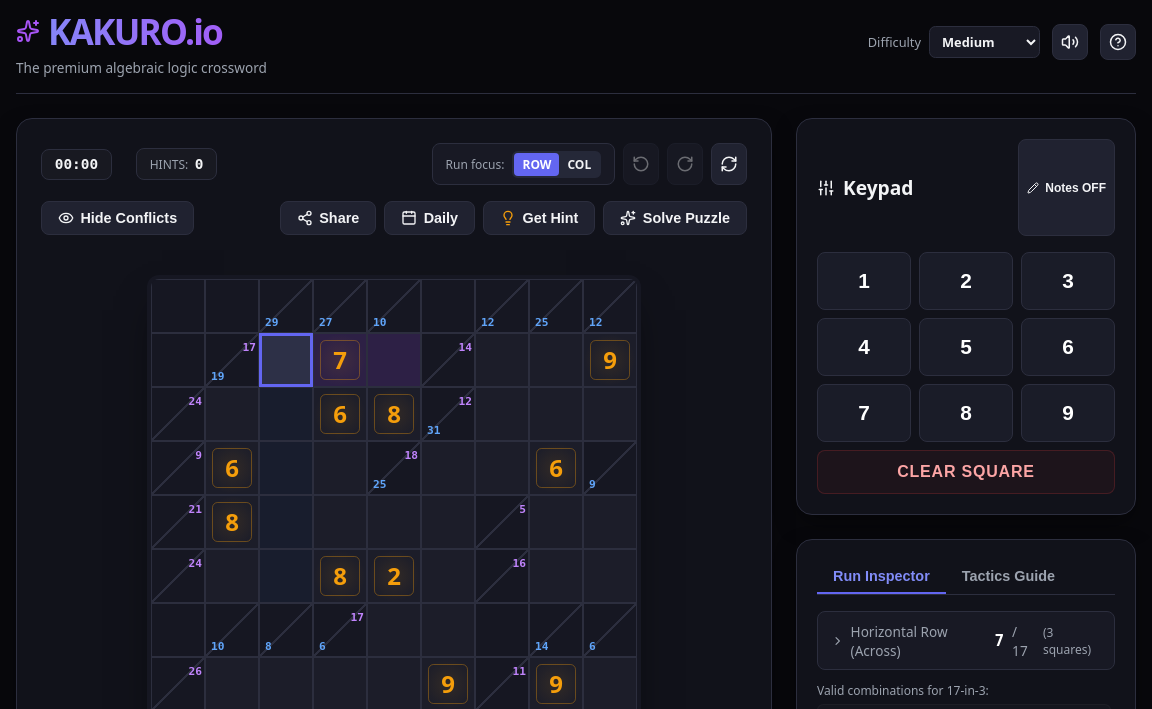
Test: App integration › lists computed unique partitions in the tactics guide
Click the tab "Tactics Guide".
click(1008, 577)  # box x1=946 y1=560 x2=1071 y2=594
(page scrolled)
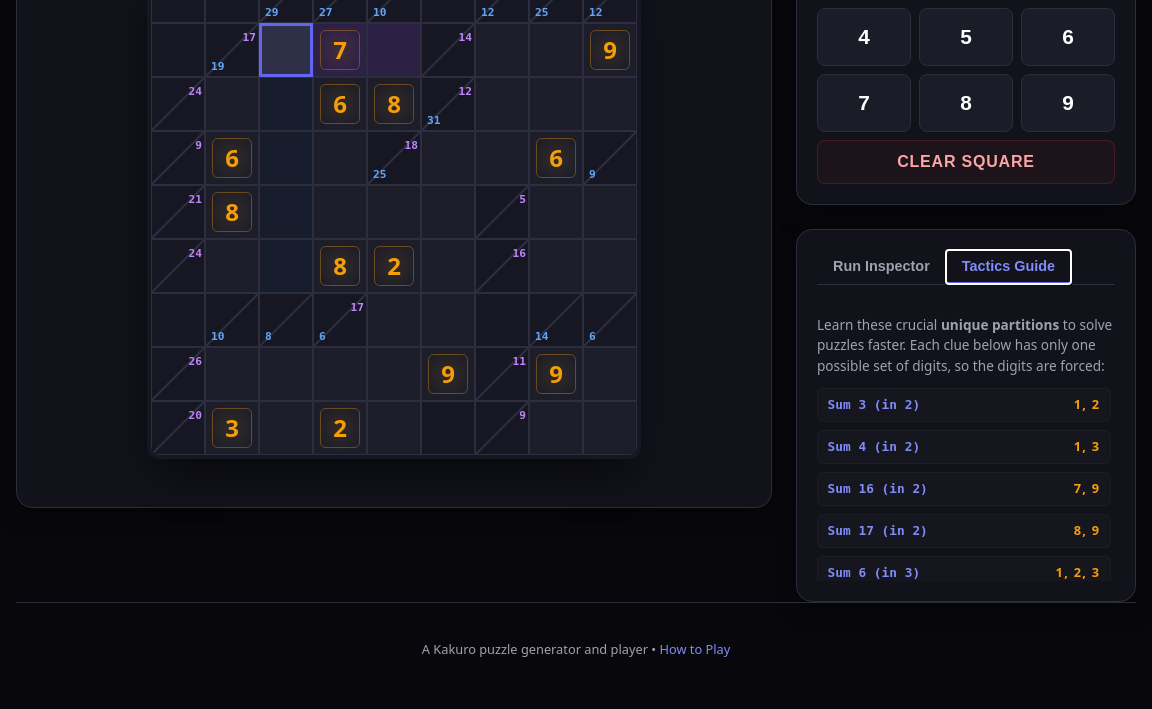
Now the text "Sum 3 (in 2)" is shown, box x1=828 y1=395 x2=920 y2=415
